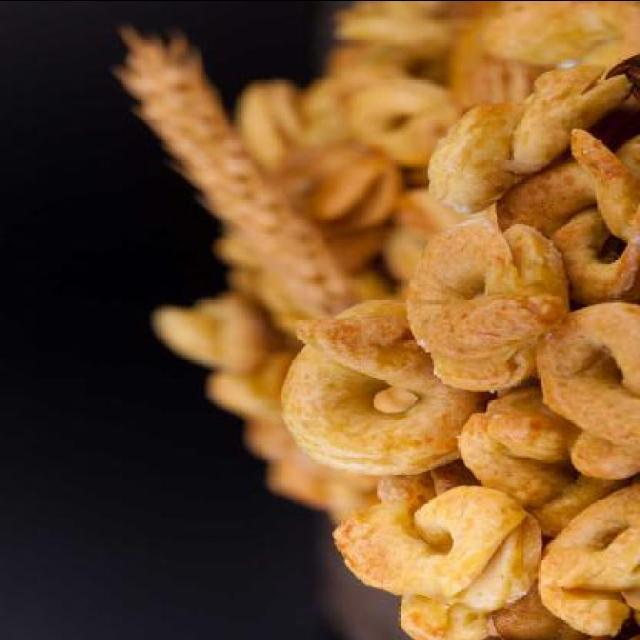Taralli: (278, 59, 640, 636)
